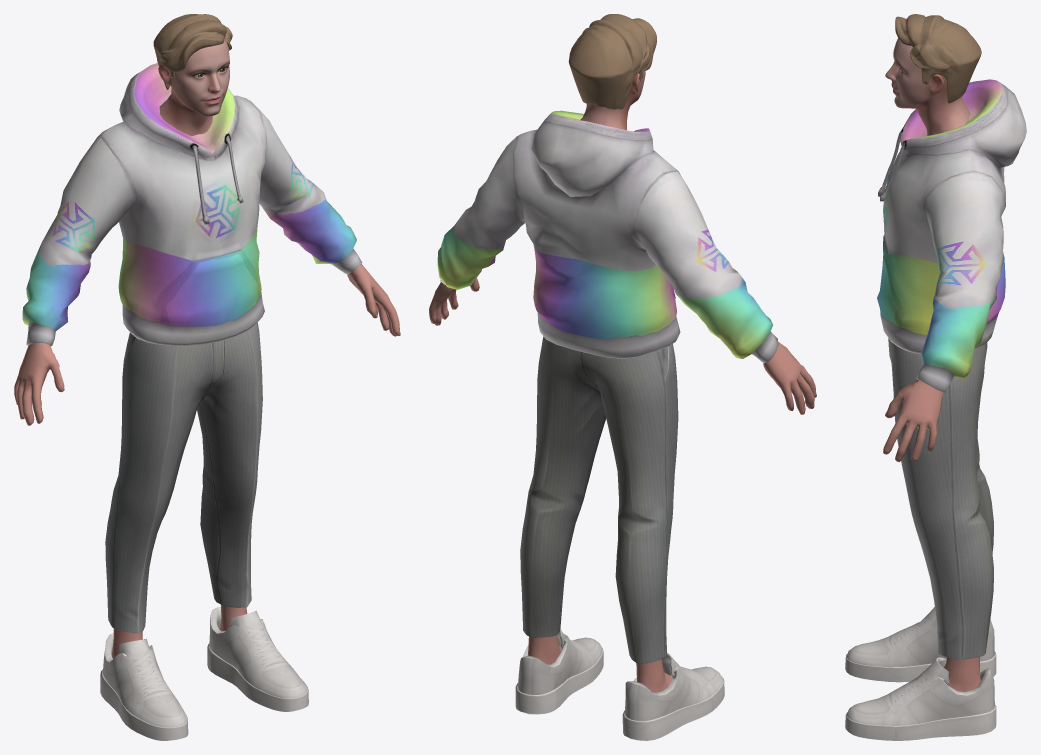
File: avatar.glb
3 views of the same model, side by side, from view 1: azimuth 30°, elevation 25°; view 2: azimuth 150°, elevation 25°; view 3: azimuth 270°, elevation 25° (orthographic).
Parts seen in each view (by area): view 1: Wolf3D_Outfit_Top, Wolf3D_Outfit_Bottom, Wolf3D_Outfit_Footwear, Wolf3D_Body, Wolf3D_Head, Wolf3D_Hair; view 2: Wolf3D_Outfit_Top, Wolf3D_Outfit_Bottom, Wolf3D_Outfit_Footwear, Wolf3D_Hair, Wolf3D_Body, Wolf3D_Head; view 3: Wolf3D_Outfit_Top, Wolf3D_Outfit_Bottom, Wolf3D_Outfit_Footwear, Wolf3D_Hair, Wolf3D_Body, Wolf3D_Head.
Boxes of the visible parts, x1,y1,x2,y2 form: Wolf3D_Outfit_Top: (22, 63, 362, 345); Wolf3D_Outfit_Bottom: (105, 322, 262, 633); Wolf3D_Outfit_Footwear: (100, 607, 308, 740); Wolf3D_Body: (14, 264, 400, 658); Wolf3D_Head: (158, 39, 229, 136); Wolf3D_Hair: (153, 14, 232, 89); Wolf3D_Outfit_Top: (437, 110, 778, 363); Wolf3D_Outfit_Bottom: (520, 336, 678, 663); Wolf3D_Outfit_Footwear: (515, 629, 724, 740); Wolf3D_Hair: (568, 14, 656, 109); Wolf3D_Body: (429, 278, 816, 692); Wolf3D_Head: (580, 71, 645, 130); Wolf3D_Outfit_Top: (877, 79, 1026, 392); Wolf3D_Outfit_Bottom: (888, 338, 993, 659); Wolf3D_Outfit_Footwear: (845, 607, 996, 740); Wolf3D_Hair: (895, 14, 981, 103); Wolf3D_Body: (883, 379, 980, 691); Wolf3D_Head: (885, 38, 970, 135).
Size of the model in its own units: 1.06 by 1.85 by 0.4455.
8 materials, 8 textured.
